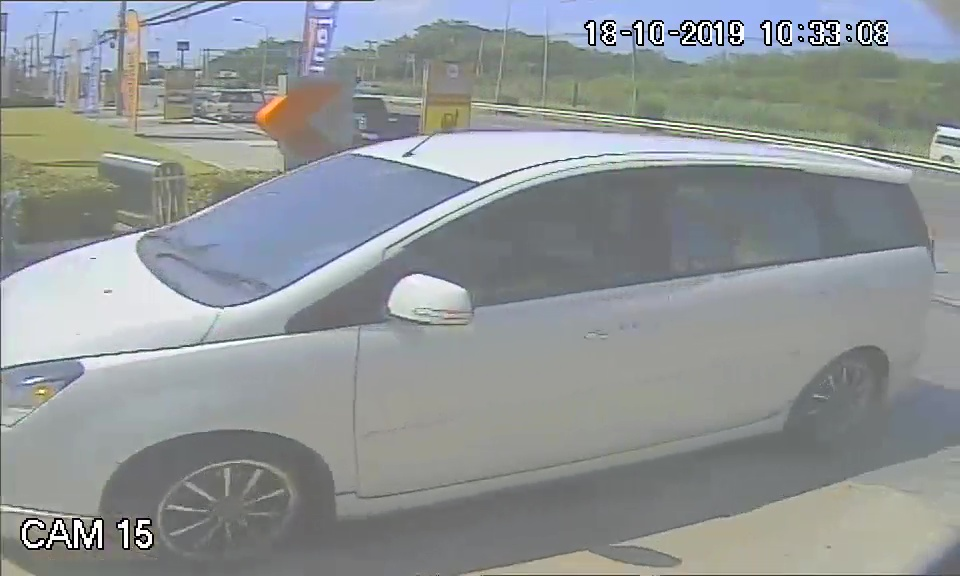pickup: (2, 123, 935, 543)
